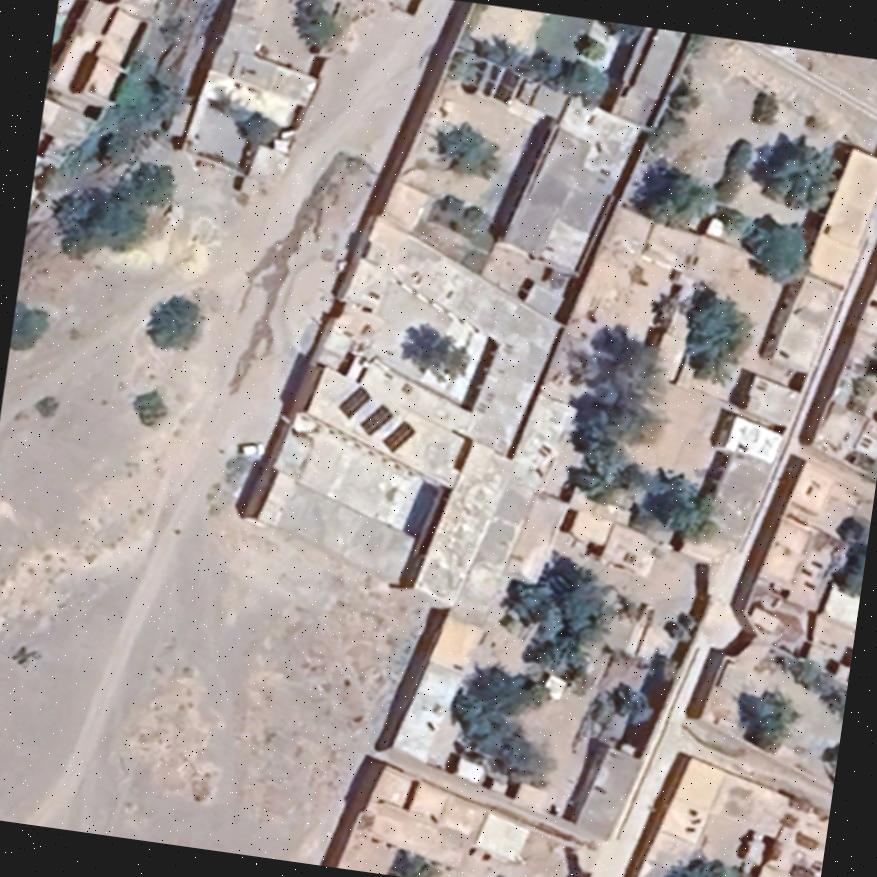Solarpanel: (331, 375, 377, 422), (354, 393, 398, 440), (377, 411, 418, 457)
